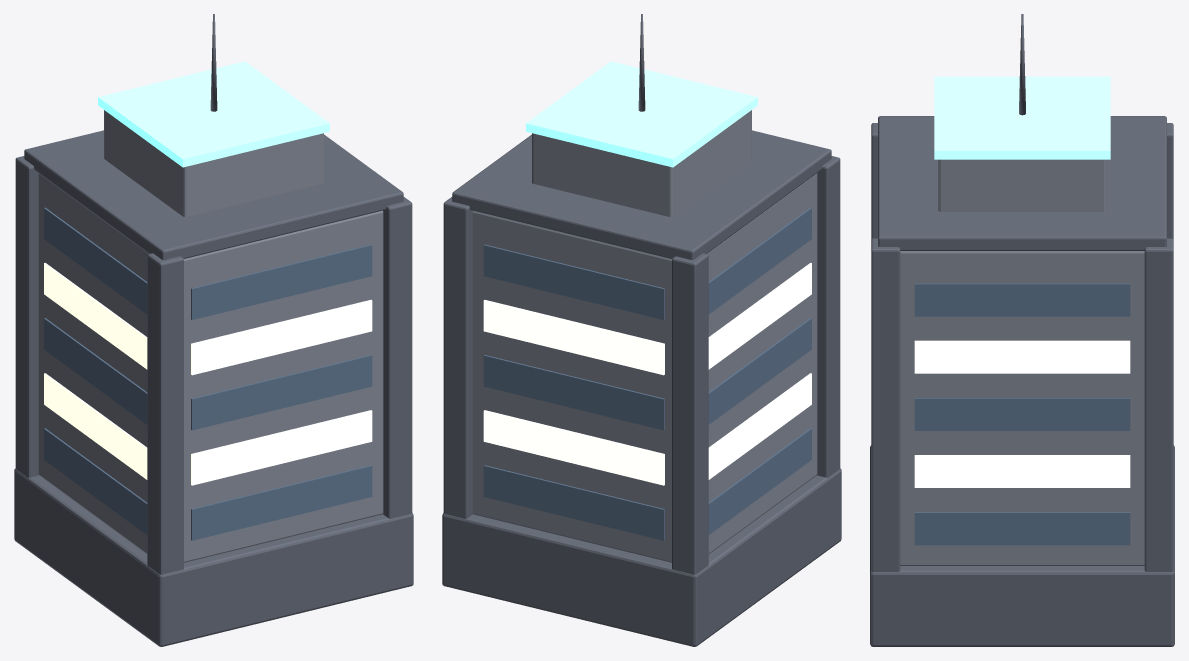
File: city_tower.glb
The picture shows the model from 3 angles, left to right: view 1: azimuth 30°, elevation 25°; view 2: azimuth 150°, elevation 25°; view 3: azimuth 270°, elevation 25°; orthographic projection. The views are drawn at different scales.
Parts seen in each view (by area): view 1: TowerShaft, LobbyPodium, RoofDeck, NeonCrown, Column_-5.2_-5.2, Penthouse, Column_5.2_-5.2, Column_-5.2_5.2, WinBandY_1, WinBandY_2, WinBandY_0, WinBandY_3 (+6 smaller); view 2: TowerShaft, LobbyPodium, RoofDeck, NeonCrown, Column_-5.2_5.2, Penthouse, Column_5.2_5.2, Column_-5.2_-5.2, WinBandY_1, WinBandY_2, WinBandY_0, WinBandY_3 (+6 smaller); view 3: TowerShaft, LobbyPodium, RoofDeck, NeonCrown, Column_5.2_5.2, Column_5.2_-5.2, Penthouse, WinBandX_0, WinBandX_3, WinBandX_4, WinBandX_1, WinBandX_2 (+3 smaller).
Part boxes in pixels (x1,y1,x2,y2): TowerShaft: (38, 173, 383, 562); LobbyPodium: (14, 468, 413, 646); RoofDeck: (24, 130, 403, 259); NeonCrown: (98, 61, 329, 167); Column_-5.2_-5.2: (147, 253, 183, 574); Penthouse: (104, 110, 323, 216); Column_5.2_-5.2: (383, 197, 412, 518); Column_-5.2_5.2: (15, 156, 38, 477); WinBandY_1: (191, 410, 372, 485); WinBandY_2: (191, 355, 372, 430); WinBandY_0: (191, 465, 372, 540); WinBandY_3: (191, 300, 372, 375); TowerShaft: (472, 173, 817, 562); LobbyPodium: (442, 468, 841, 646); RoofDeck: (452, 130, 831, 259); NeonCrown: (526, 61, 757, 167); Column_-5.2_5.2: (672, 253, 708, 574); Penthouse: (532, 110, 751, 216); Column_5.2_5.2: (443, 197, 472, 518); Column_-5.2_-5.2: (817, 156, 840, 477); WinBandY_1: (483, 410, 664, 485); WinBandY_2: (483, 355, 664, 430); WinBandY_0: (483, 465, 664, 540); WinBandY_3: (483, 300, 664, 375); TowerShaft: (900, 251, 1144, 565); LobbyPodium: (870, 445, 1174, 646); RoofDeck: (878, 116, 1166, 250); NeonCrown: (934, 76, 1110, 159); Column_5.2_5.2: (1144, 238, 1173, 571); Column_5.2_-5.2: (871, 238, 900, 571); Penthouse: (938, 159, 1106, 211); WinBandX_0: (914, 512, 1130, 545); WinBandX_3: (914, 340, 1130, 373); WinBandX_4: (914, 283, 1130, 316); WinBandX_1: (914, 455, 1130, 487); WinBandX_2: (914, 398, 1130, 430).
Bounding box in the file's own units: 11.6 × 23.9 × 11.6.
